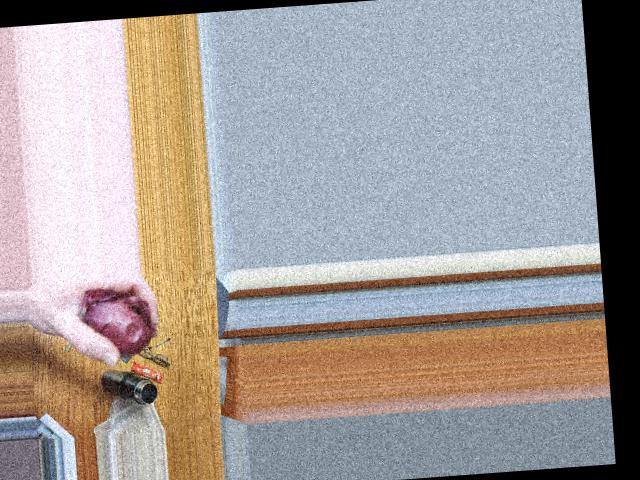onion: (81, 292, 152, 360)
